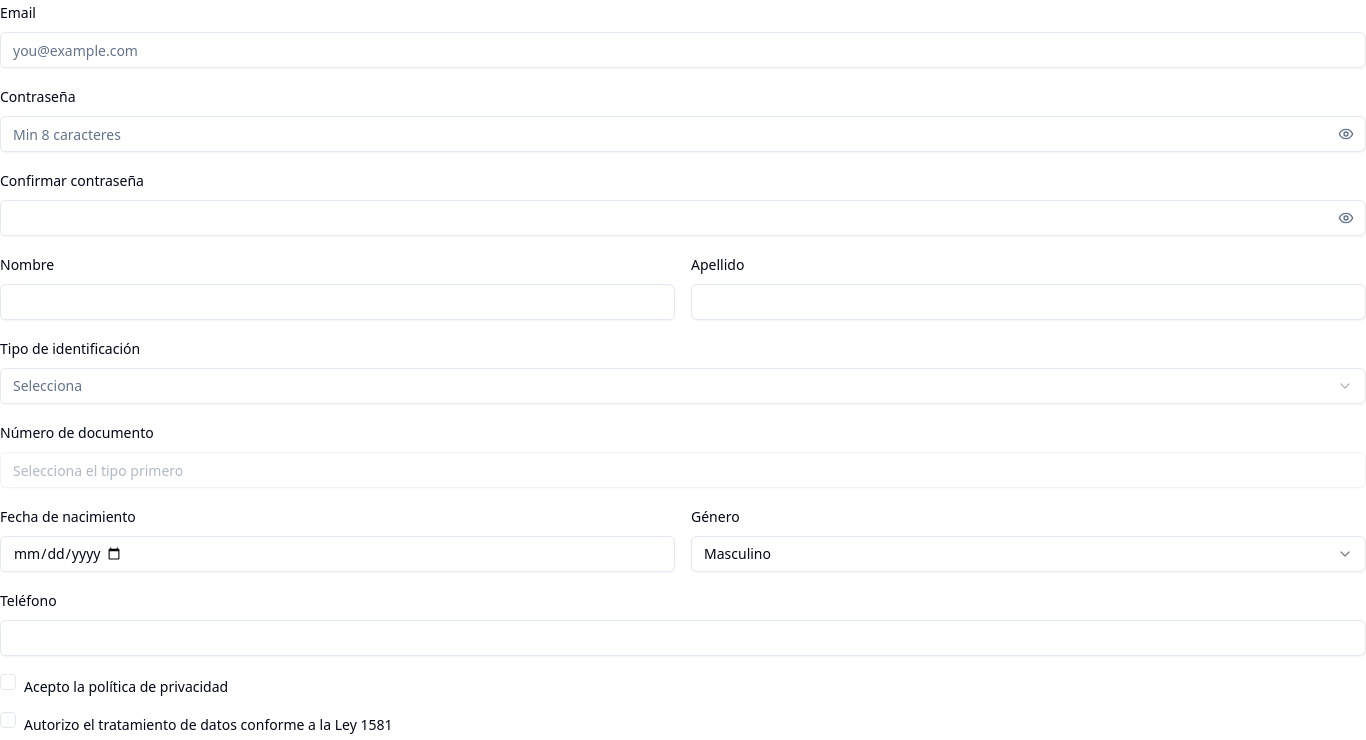
Test: PatientRegistrationForm › Validación del formulario › debe validar contraseña muy corta
Type "short" into the password field labelled "Contraseña" at (683, 134), box top-left (0, 116), bottom-right (1365, 152)
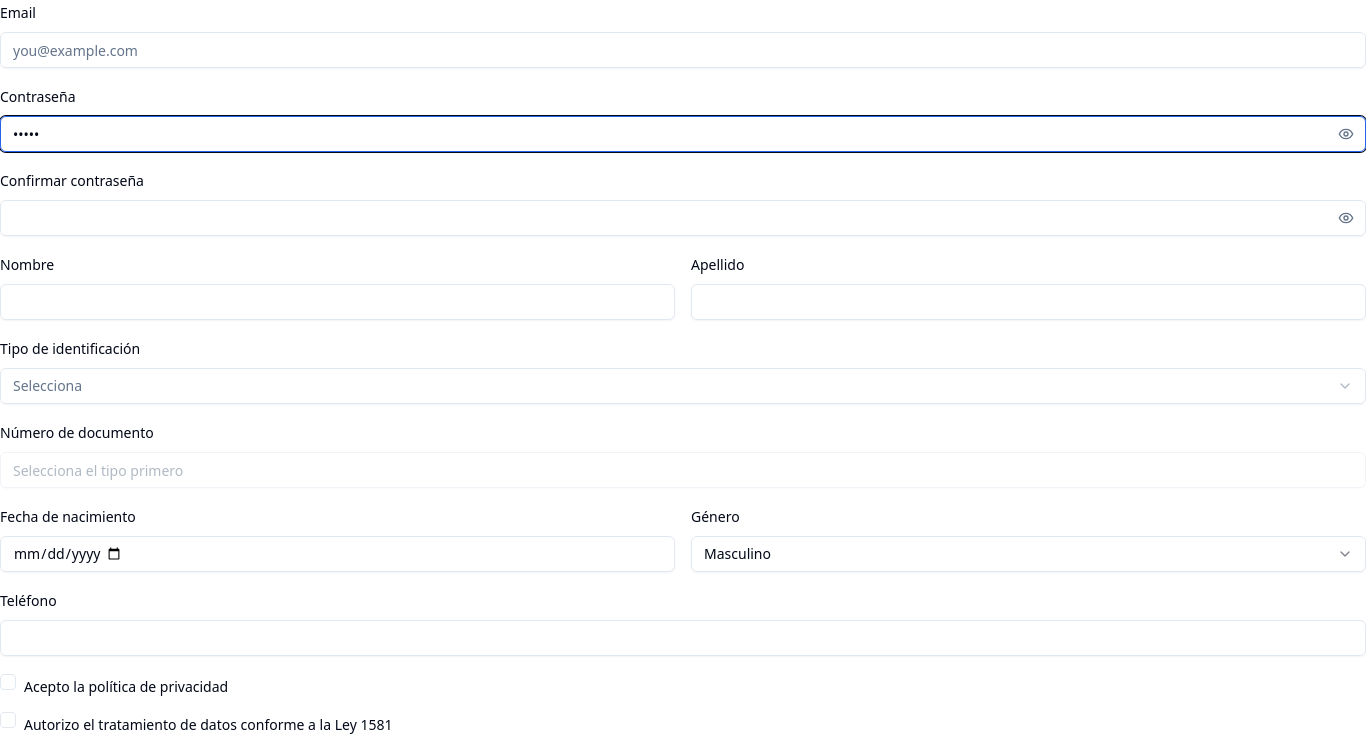
Press Tab
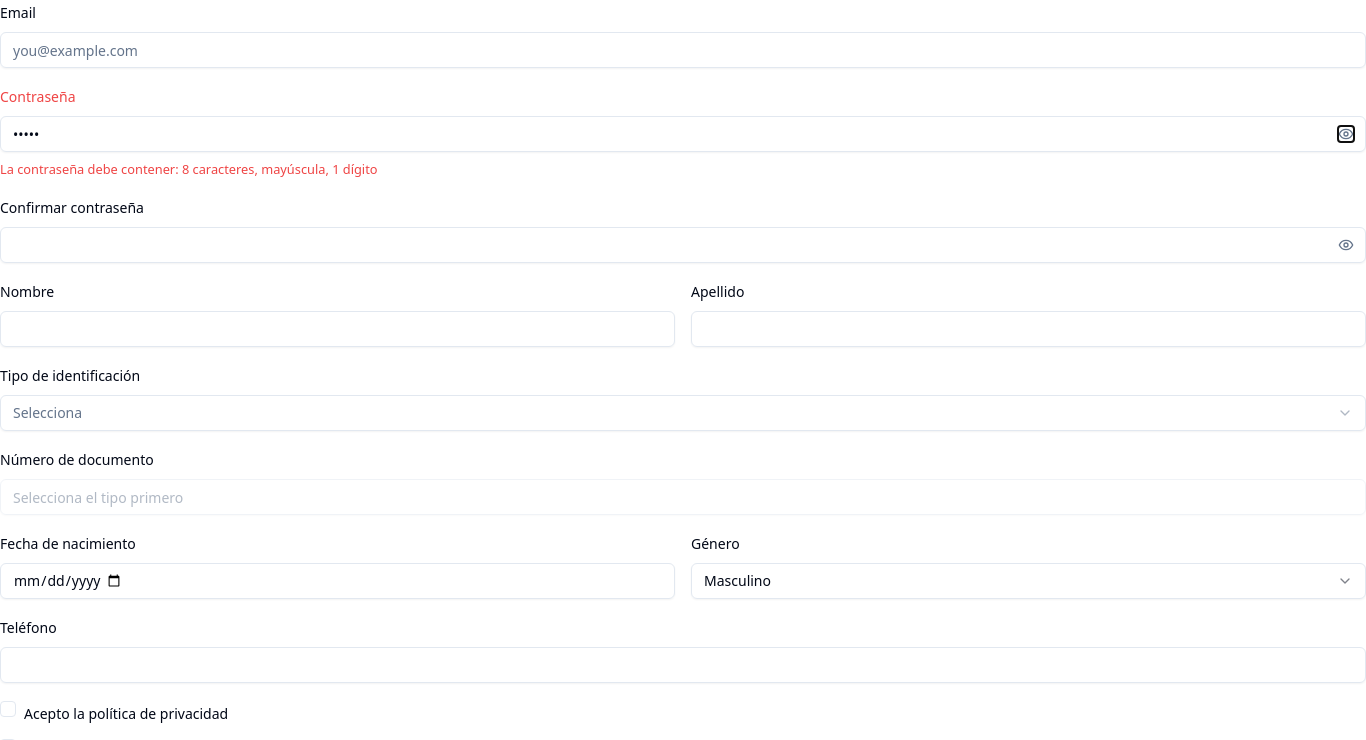
Expected: the text "8 caracteres" is shown, top-left (0, 160), bottom-right (378, 178)
